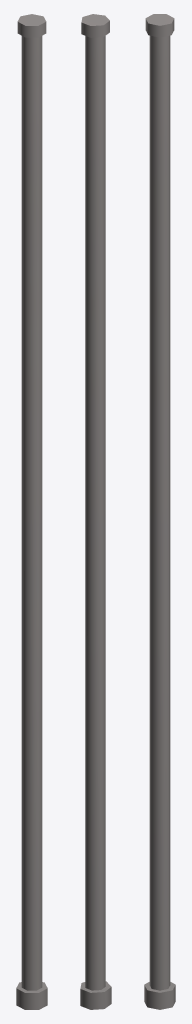
Rendered from Support_Pole.fbx.
3 views of the same model, side by side, from view 1: azimuth 90°, elevation 25°; view 2: azimuth 150°, elevation 25°; view 3: azimuth 270°, elevation 25° (orthographic).
Visible parts, largest first — view 1: Pole; view 2: Pole; view 3: Pole.
Part boxes in pixels (x1,y1,x2,y2): Pole: (16, 14, 47, 1009); Pole: (80, 14, 111, 1009); Pole: (144, 14, 175, 1009).
Bounding box in the file's own units: 0.0869 × 3.06 × 0.0891.
